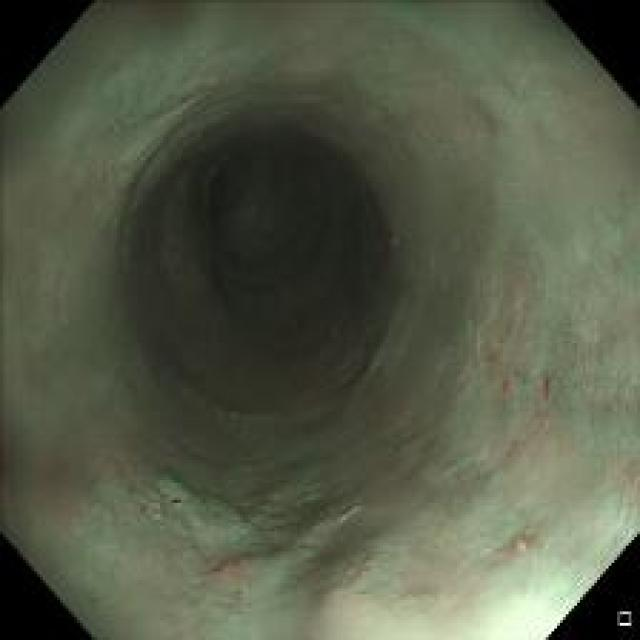contrast: (115, 112, 391, 432)
